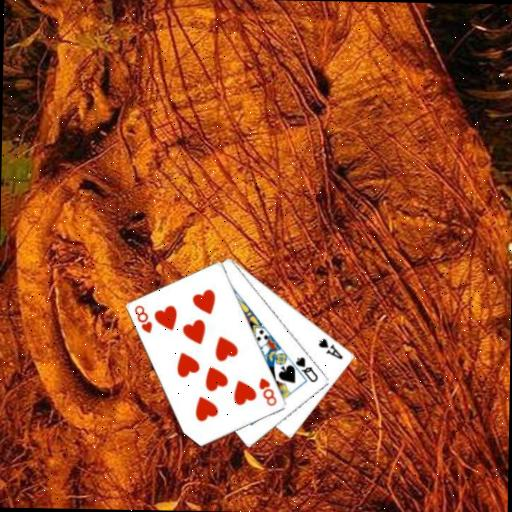8H: (255, 375, 279, 408), (131, 303, 155, 335)
AS: (316, 335, 345, 361)
QS: (292, 354, 320, 384)
